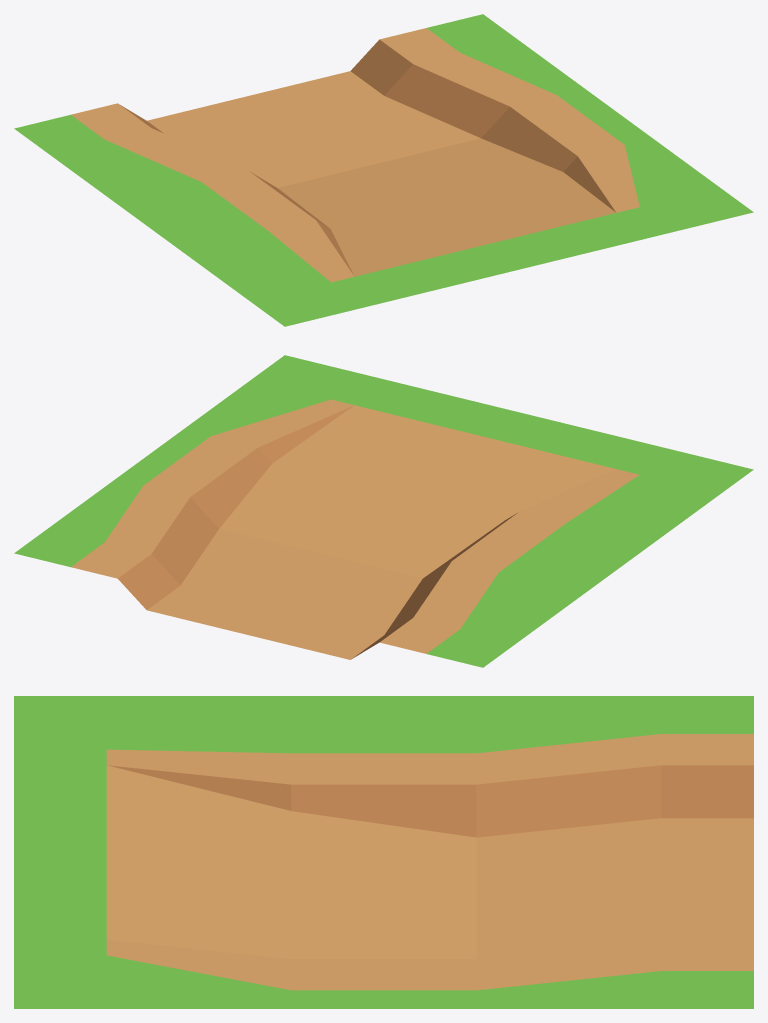
Rendered from path-end.glb.
3 views of the same model, one above another, from view 1: azimuth 30°, elevation 25°; view 2: azimuth 150°, elevation 25°; view 3: azimuth 270°, elevation 25° (orthographic). The views are drawn at different scales.
Parts seen in each view (by area): view 1: ground_pathEnd; view 2: ground_pathEnd; view 3: ground_pathEnd.
Part boxes in pixels (box(x1,y1,x2,y2)): ground_pathEnd: box(14, 14, 753, 326); ground_pathEnd: box(14, 355, 753, 667); ground_pathEnd: box(14, 696, 753, 1008).
Bounding box in the file's own units: 4 × 0.2002 × 4.
